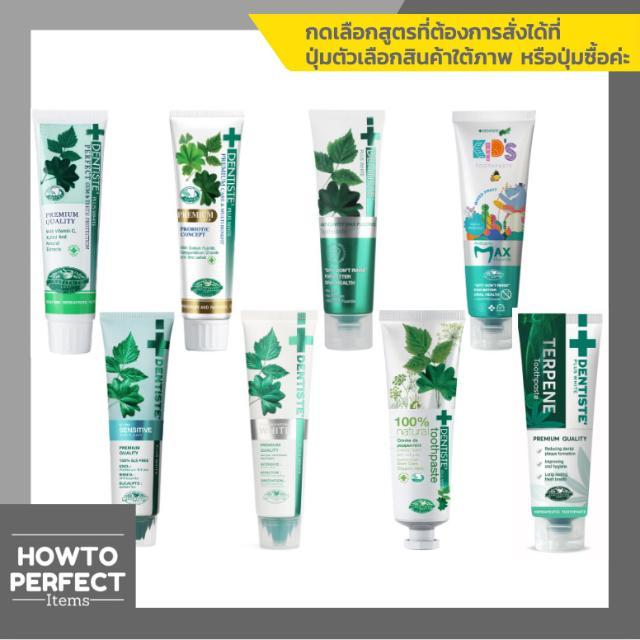Squeeze Tube: (84, 306, 200, 552), (434, 95, 540, 355), (499, 298, 604, 555), (290, 103, 394, 360), (228, 299, 334, 545), (27, 89, 116, 357), (385, 304, 477, 560), (169, 110, 231, 356)
